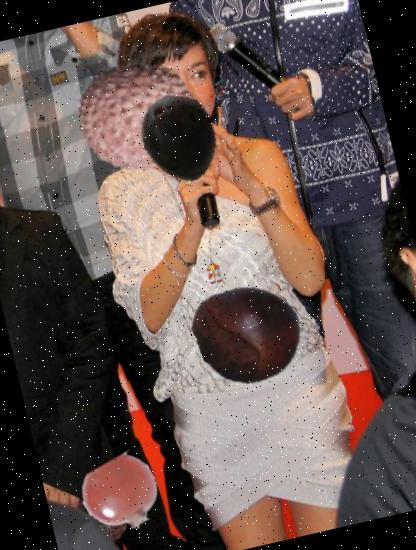Chestnut: (186, 270, 312, 396)
Lychee: (63, 42, 214, 193)
Plum: (124, 84, 232, 193)
Redcurrant: (76, 450, 166, 540)
